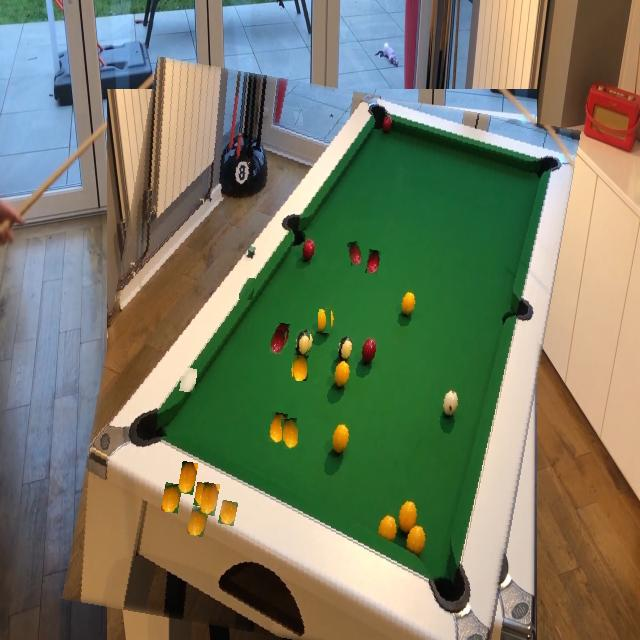Ball: (187, 506, 208, 537), (201, 482, 219, 516), (281, 419, 299, 449), (219, 500, 237, 526), (180, 367, 197, 393), (270, 330, 286, 354), (294, 332, 310, 356), (293, 358, 308, 383), (348, 242, 362, 266), (318, 309, 331, 333), (240, 278, 254, 300), (295, 108, 303, 125)
Billiard table: (84, 72, 559, 640)
